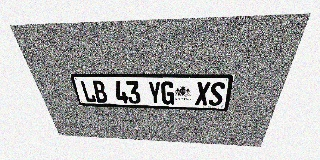3: (126, 81, 141, 104)
4: (113, 81, 129, 103)
B: (91, 81, 108, 103)
G: (161, 81, 174, 105)
L: (79, 80, 97, 102)
S: (208, 82, 226, 106)
X: (195, 82, 211, 106)
Y: (147, 81, 161, 104)
